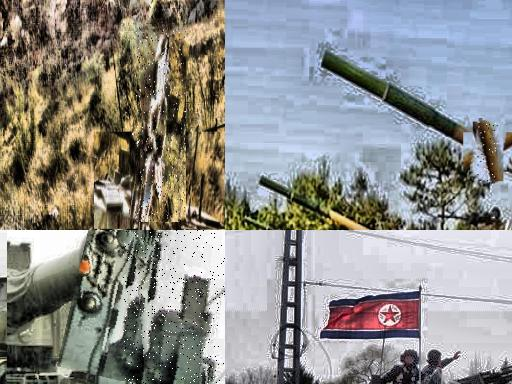tanks: (1, 274, 226, 384), (136, 29, 187, 223), (261, 178, 322, 212), (479, 120, 499, 185), (325, 210, 372, 231), (456, 369, 512, 384), (245, 217, 280, 231)
